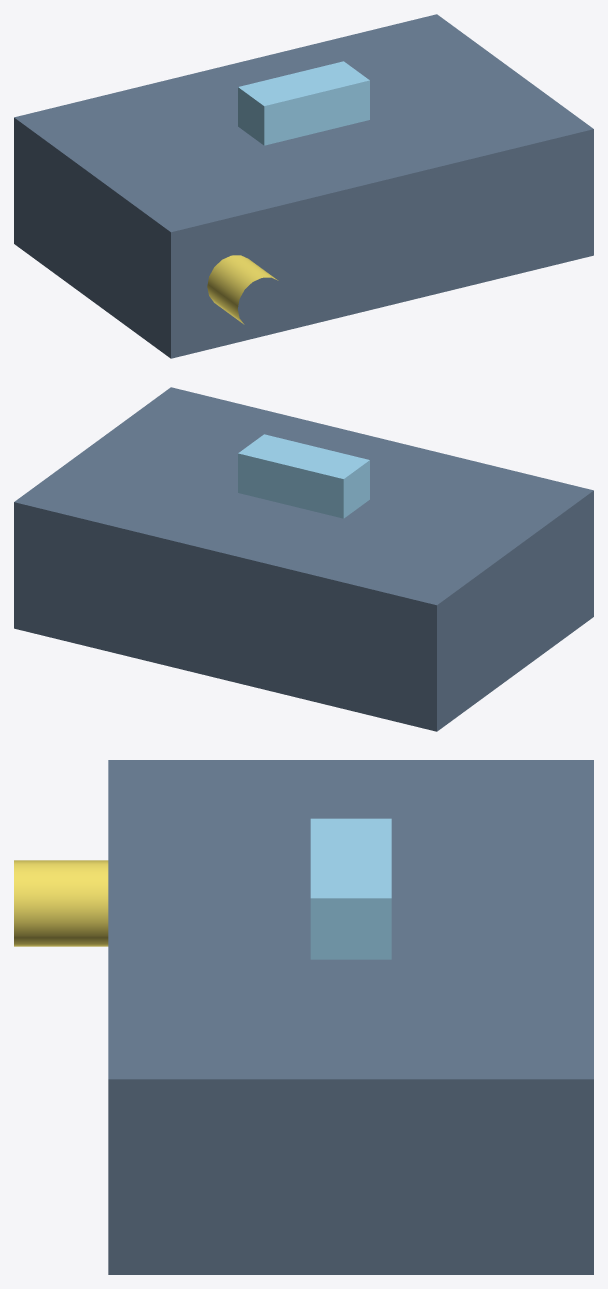
Rendered from two_port_networks_attenuators.glb.
3 renders of one model, top to bottom at view 1: azimuth 30°, elevation 25°; view 2: azimuth 150°, elevation 25°; view 3: azimuth 270°, elevation 25°, orthographic. The views are drawn at different scales.
Parts seen in each view (by area): view 1: TwoPortNetworkEnclosure, TNetworkPrecisionResistors, InputPortBNCTerminals; view 2: TwoPortNetworkEnclosure, TNetworkPrecisionResistors; view 3: TwoPortNetworkEnclosure, TNetworkPrecisionResistors, InputPortBNCTerminals.
Part boxes in pixels (bbox=[...]): TwoPortNetworkEnclosure: bbox=[14, 14, 593, 358]; TNetworkPrecisionResistors: bbox=[238, 61, 369, 145]; InputPortBNCTerminals: bbox=[207, 255, 278, 324]; TwoPortNetworkEnclosure: bbox=[14, 387, 593, 731]; TNetworkPrecisionResistors: bbox=[238, 434, 369, 518]; TwoPortNetworkEnclosure: bbox=[108, 760, 593, 1274]; TNetworkPrecisionResistors: bbox=[310, 818, 391, 959]; InputPortBNCTerminals: bbox=[14, 860, 108, 946].
Size of the model in its own units: 1.4 by 0.525 by 1.07.
